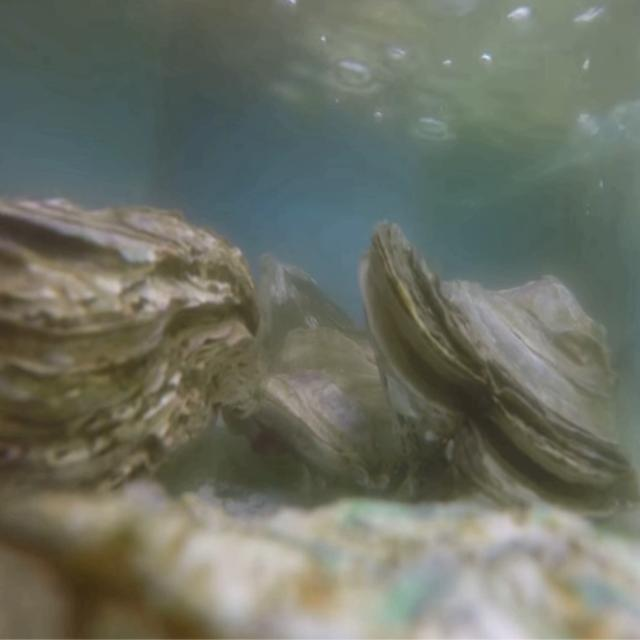Oyster-Closed: (0, 195, 261, 533), (258, 326, 420, 504)
Oyster-Indeterminate: (0, 483, 640, 640), (266, 262, 371, 372)
Oyster-Open: (359, 220, 640, 538)
